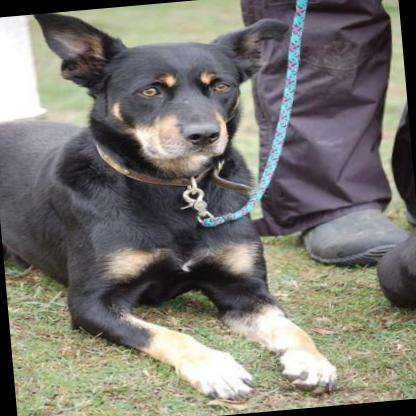kelpie: (0, 0, 339, 416)
